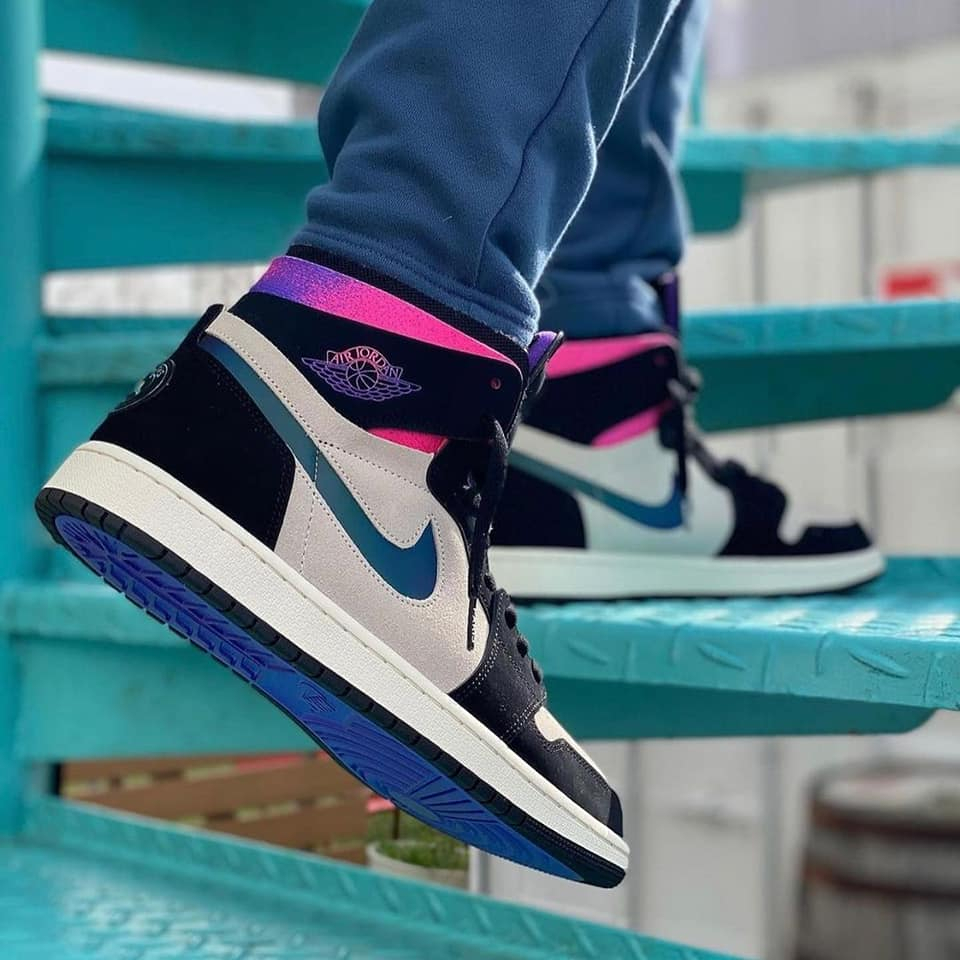sneakers: (31, 252, 628, 885), (497, 331, 884, 602)
